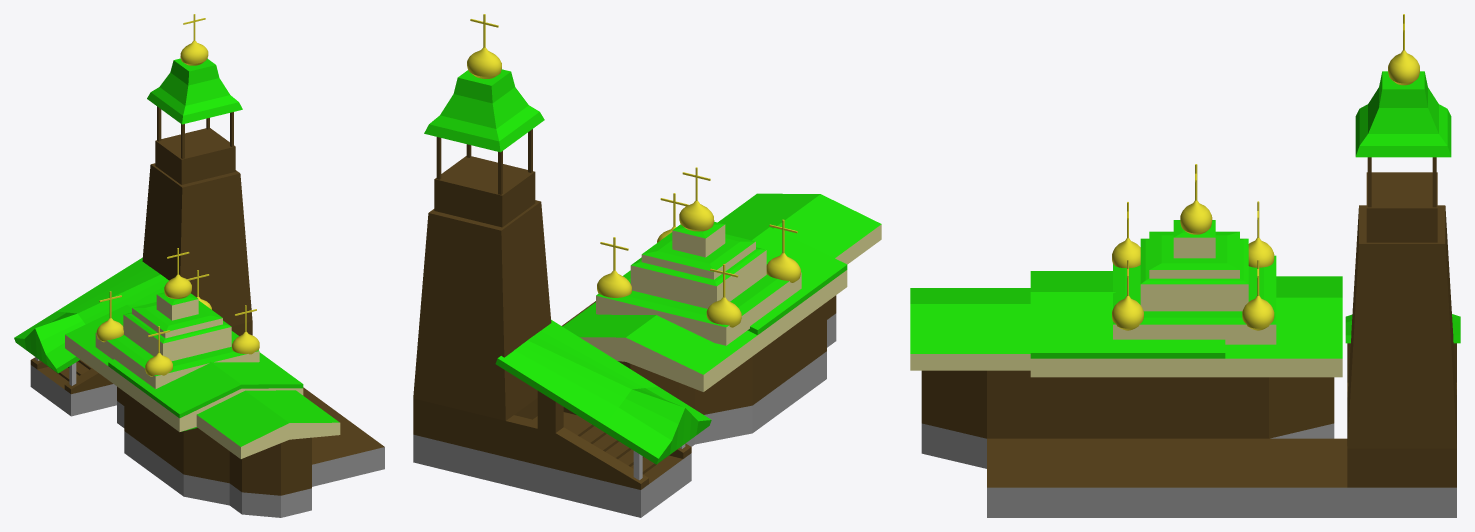
File: 3church.fbx
3 views of the same model, side by side, from view 1: azimuth 30°, elevation 25°; view 2: azimuth 150°, elevation 25°; view 3: azimuth 270°, elevation 25° (orthographic). The views are drawn at different scales.
Parts seen in each view (by area): view 1: Cube.018, Cube.020, Cube.022, Cube.027, Cube.023, krest.007, krest.001, krest.006, krest.004, krest.003; view 2: Cube.018, Cube.020, Cube.022, Cube.027, Cube.023, krest.007, krest.001, krest.006, krest.004, krest.005; view 3: Cube.018, Cube.020, Cube.022, Cube.023, krest.001, krest.005, krest.007, krest.003, krest.004, krest.006.
Boxes of the visible parts, left/top/right/bottom form: Cube.018: left=30, top=106, right=384, bottom=517; Cube.020: left=65, top=304, right=340, bottom=458; Cube.022: left=95, top=292, right=259, bottom=388; Cube.027: left=14, top=258, right=168, bottom=373; Cube.023: left=147, top=58, right=242, bottom=124; krest.007: left=180, top=14, right=208, bottom=65; krest.001: left=164, top=248, right=191, bottom=298; krest.006: left=96, top=291, right=123, bottom=342; krest.004: left=145, top=326, right=172, bottom=376; krest.003: left=232, top=305, right=259, bottom=354; Cube.018: left=413, top=129, right=836, bottom=517; Cube.020: left=562, top=193, right=881, bottom=391; Cube.022: left=596, top=222, right=801, bottom=345; Cube.027: left=495, top=319, right=711, bottom=464; Cube.023: left=424, top=69, right=544, bottom=152; krest.007: left=467, top=14, right=501, bottom=78; krest.001: left=679, top=167, right=714, bottom=231; krest.006: left=706, top=264, right=741, bottom=327; krest.004: left=766, top=219, right=800, bottom=282; krest.005: left=597, top=237, right=631, bottom=297; Cube.018: left=921, top=157, right=1456, bottom=517; Cube.020: left=910, top=271, right=1342, bottom=377; Cube.022: left=1113, top=220, right=1276, bottom=344; Cube.023: left=1355, top=71, right=1451, bottom=157; krest.001: left=1180, top=164, right=1212, bottom=234; krest.005: left=1242, top=259, right=1274, bottom=330; krest.007: left=1388, top=14, right=1419, bottom=85; krest.003: left=1112, top=259, right=1143, bottom=330; krest.004: left=1112, top=202, right=1140, bottom=268; krest.006: left=1248, top=201, right=1274, bottom=267.
Size of the model in its own units: 1738 by 2967 by 3093.
